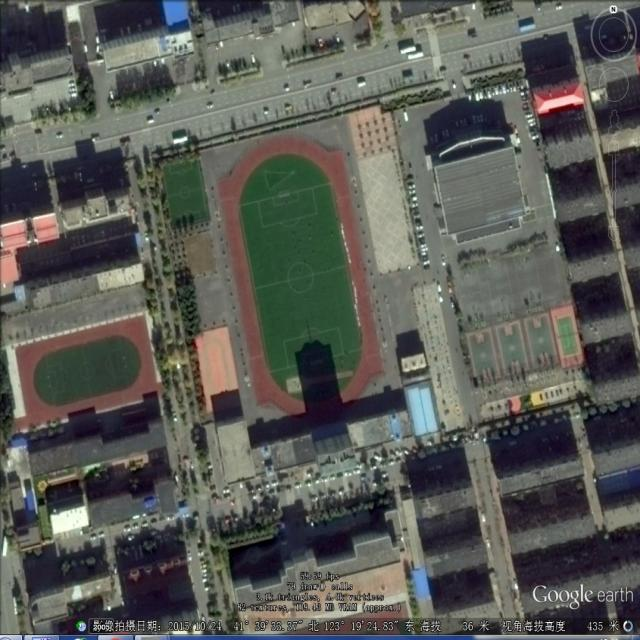playground: (216, 131, 387, 434)
